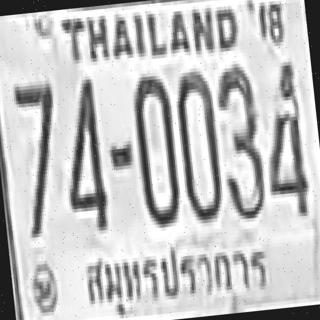N00: (129, 71, 181, 226), (173, 67, 223, 221)
N03: (212, 61, 265, 218)
N04: (256, 58, 310, 216), (56, 75, 108, 230)
N07: (11, 80, 65, 234)
P57: (78, 228, 269, 320)
